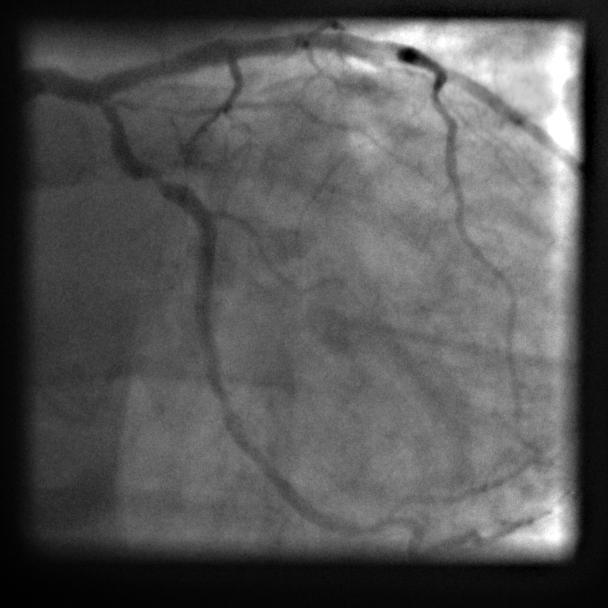Stenosis: (146, 167, 170, 192)
